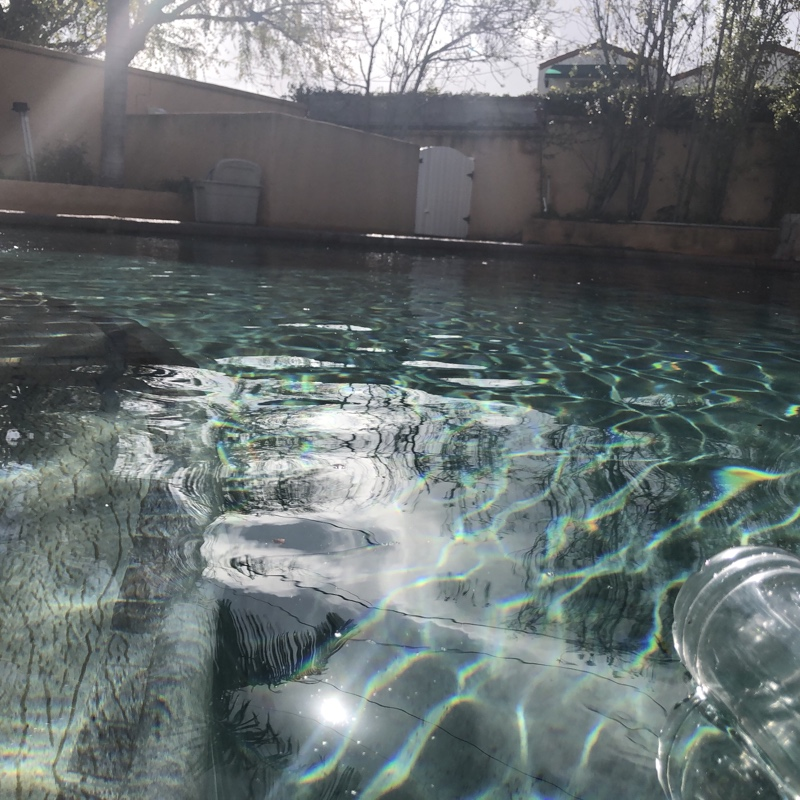Plastic Bottle: (665, 535, 800, 800)
